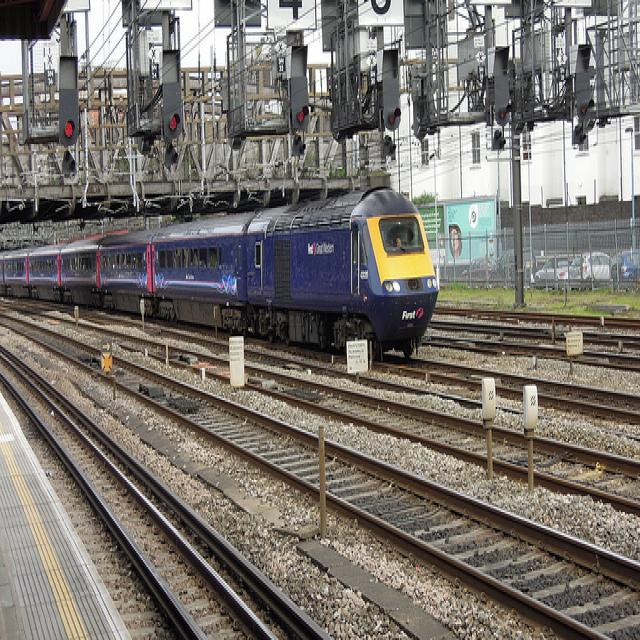Vehicle: (570, 252, 612, 282), (535, 256, 570, 281)
